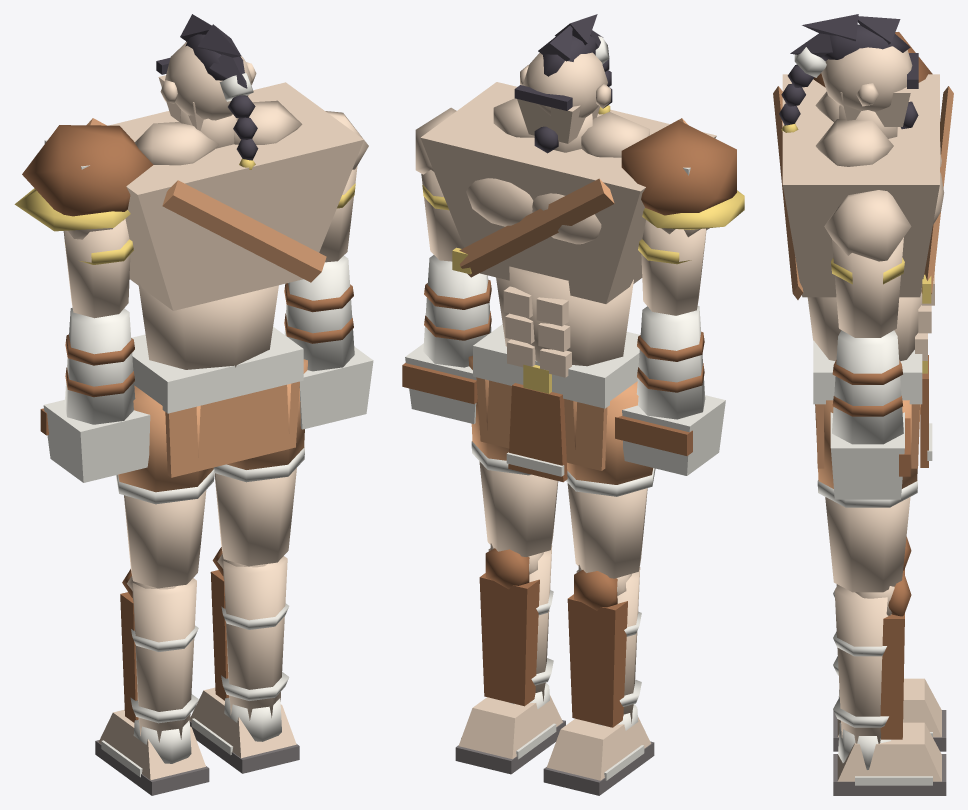
Rendered from fighter_titan.glb.
3 renders of one model, left to right at view 1: azimuth 30°, elevation 25°; view 2: azimuth 150°, elevation 25°; view 3: azimuth 270°, elevation 25°, orthographic. The views are drawn at different scales.
Visible parts, largest first — view 1: chest, pelvis, hip_l, kn_l, kn_r, hip_r, torso, head, el_l, an_l, wr_l, el_r (+4 smaller); view 2: chest, pelvis, torso, kn_r, kn_l, hip_l, head, hip_r, el_l, an_l, an_r, el_r (+4 smaller); view 3: chest, head, kn_r, sh_r, hip_r, el_r, an_r, wr_r, pelvis, torso, an_l.
Boxes of the visible parts, x1,y1,x2,y2 form: chest: [14, 82, 363, 310]; pelvis: [131, 327, 303, 477]; hip_l: [116, 385, 214, 588]; kn_l: [120, 569, 198, 742]; kn_r: [210, 547, 289, 720]; hip_r: [213, 359, 307, 566]; torso: [138, 280, 278, 369]; head: [156, 14, 258, 169]; el_l: [64, 307, 135, 424]; an_l: [95, 709, 209, 795]; wr_l: [40, 399, 150, 482]; el_r: [284, 255, 354, 371]; chest: [420, 82, 744, 303]; pelvis: [473, 324, 639, 482]; torso: [496, 266, 633, 377]; kn_r: [479, 543, 553, 706]; kn_l: [567, 565, 641, 727]; hip_l: [566, 381, 655, 578]; head: [514, 14, 612, 153]; hip_r: [468, 355, 558, 556]; el_l: [636, 306, 705, 419]; an_l: [543, 704, 654, 795]; an_r: [455, 683, 565, 774]; el_r: [423, 255, 491, 367]; chest: [773, 32, 953, 303]; head: [779, 14, 918, 132]; kn_r: [833, 570, 911, 743]; sh_r: [824, 190, 911, 337]; hip_r: [815, 400, 920, 592]; el_r: [832, 330, 903, 444]; an_r: [833, 722, 946, 795]; wr_r: [830, 412, 910, 499]; pelvis: [813, 340, 932, 468]; torso: [807, 269, 934, 361]; an_l: [833, 678, 946, 751].
Size of the model in its own units: 0.8736 by 1.88 by 0.4144.
